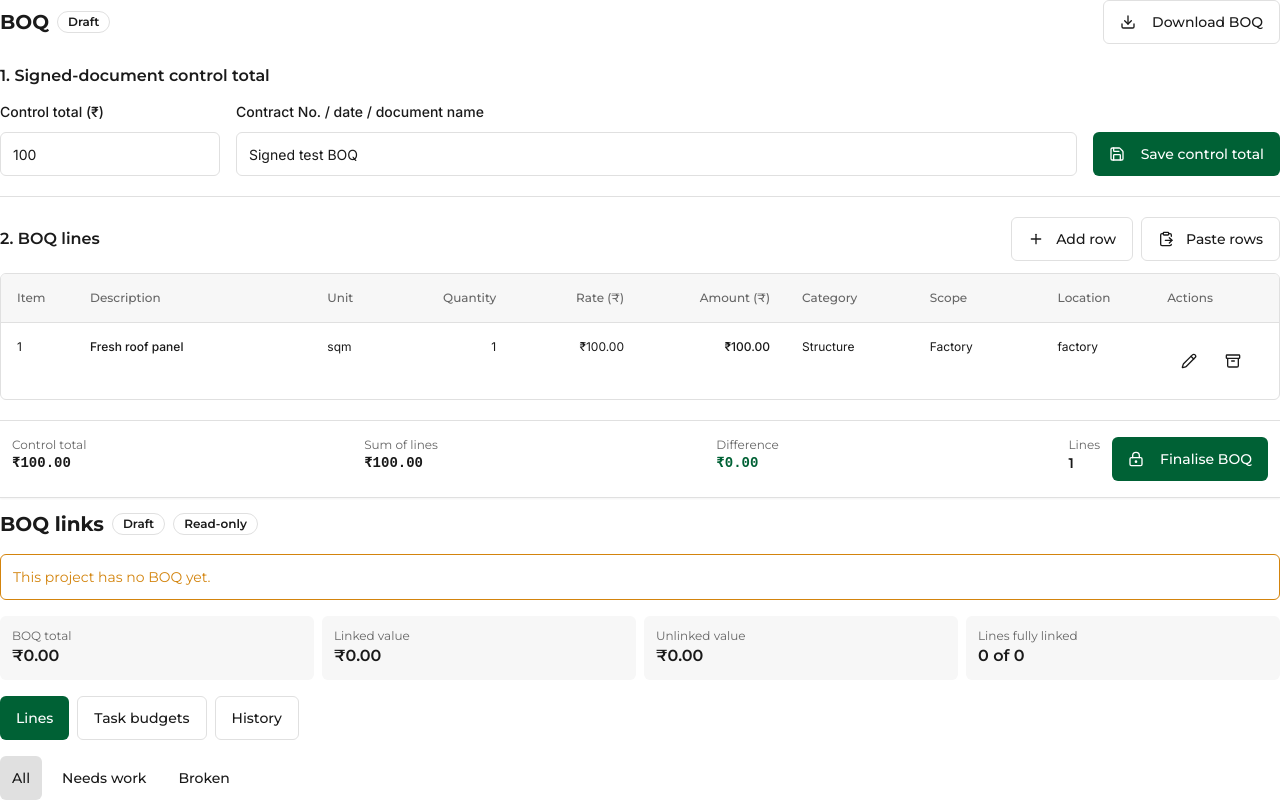
Test: BOQ entry and links refresh › shows links immediately after finalise and refreshes BOQ entry after a links mutation
Expected: the text "This project has no BOQ yet." is shown, [0,554,1279,600]
Click the button "Finalise BOQ" at coordinates (1190, 458), box [1112,436,1268,480]
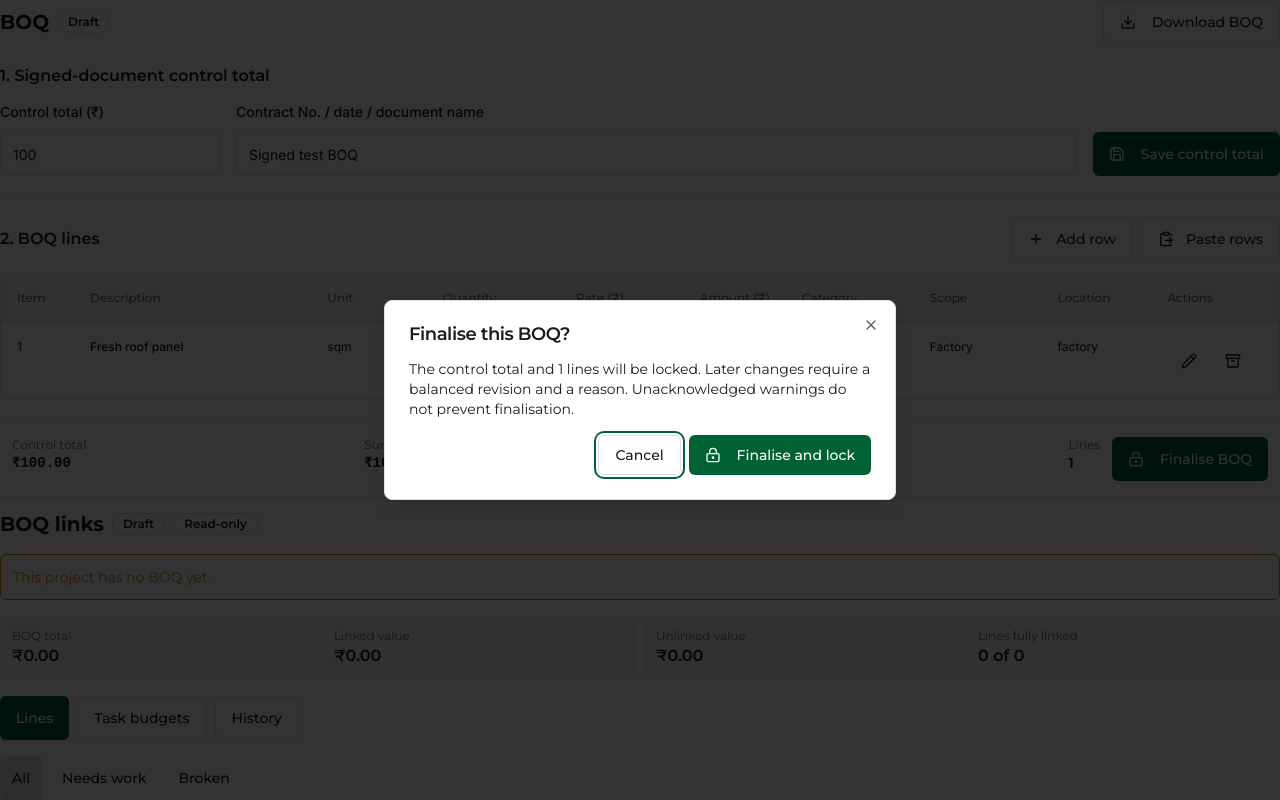
Click the button "Finalise and lock" at coordinates (780, 455), box [689,435,871,475]
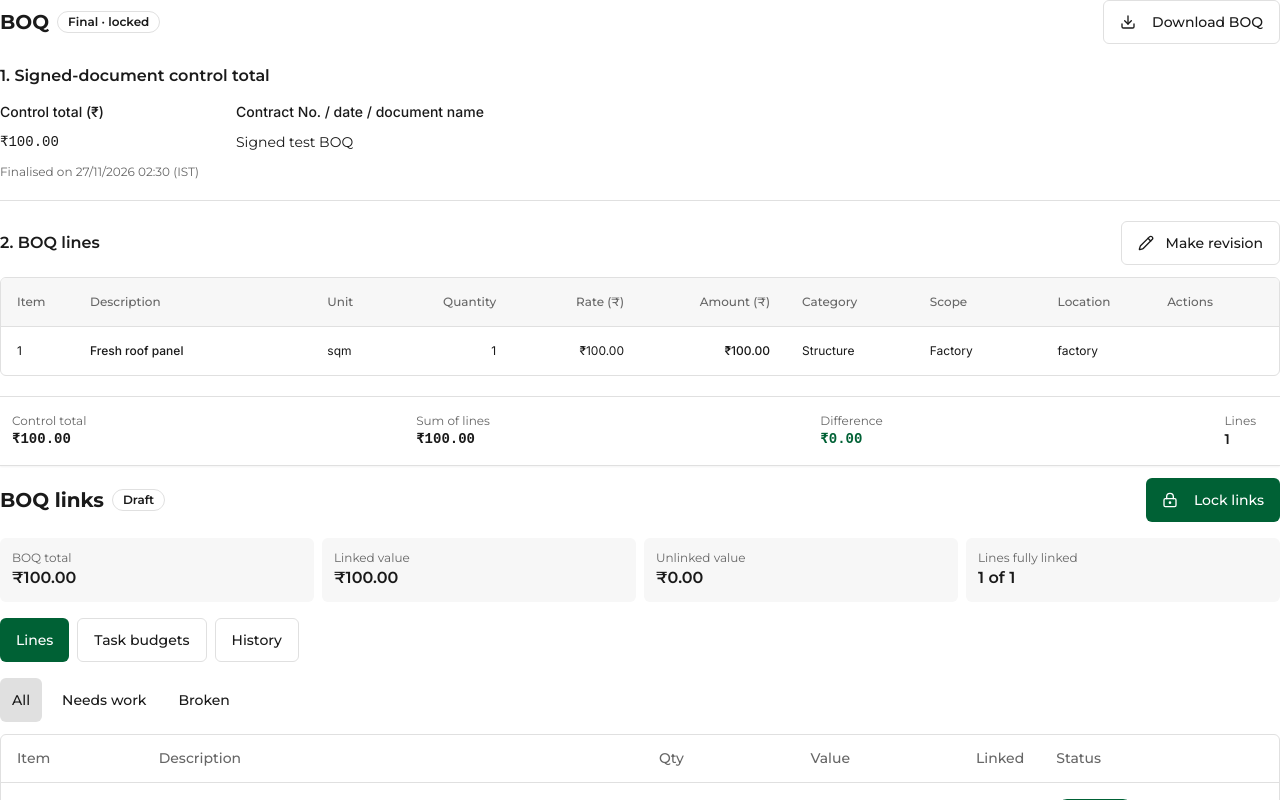
Result: the text "This project has no BOQ yet." is gone
Click the button "Lock links" at coordinates (1213, 500), box [1146,478,1279,522]
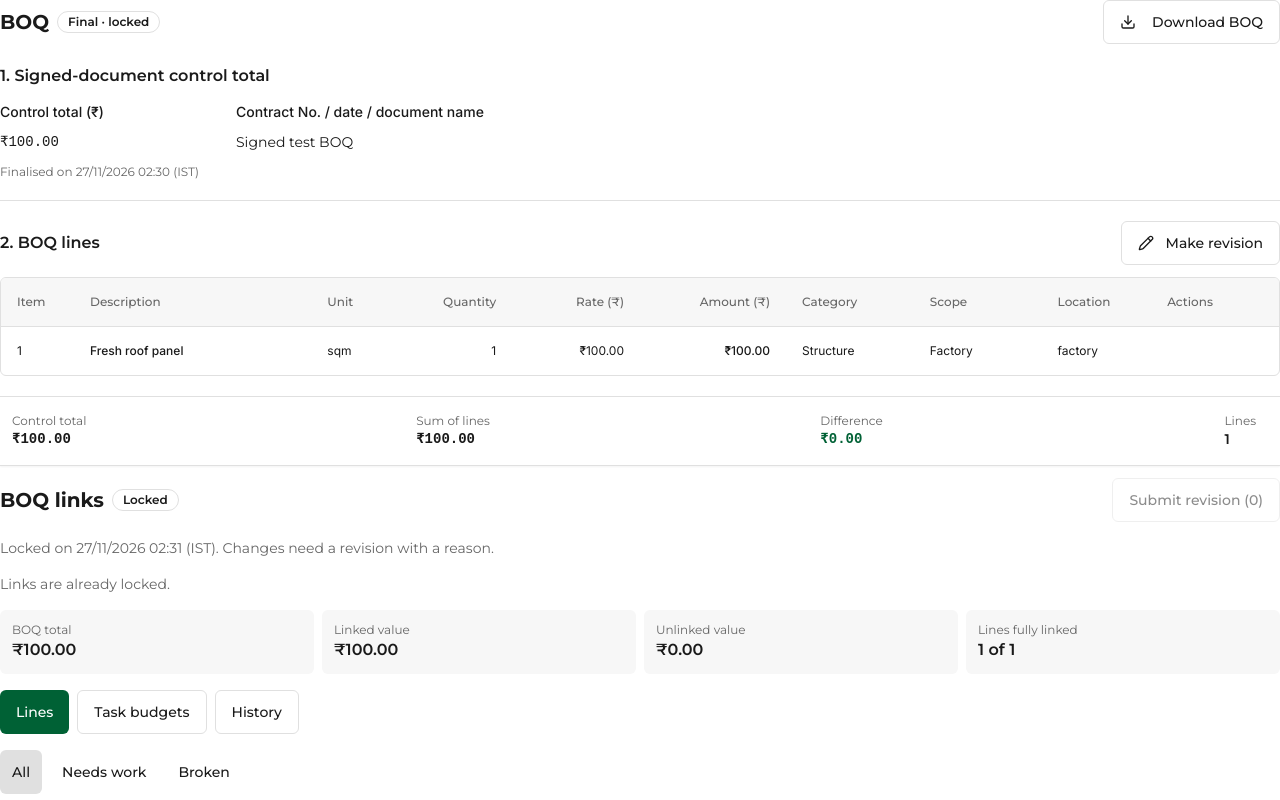
Result: the text "Links are already locked." is shown at [0,574,170,592]
